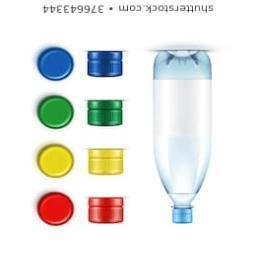plastic: (155, 50, 212, 224)
